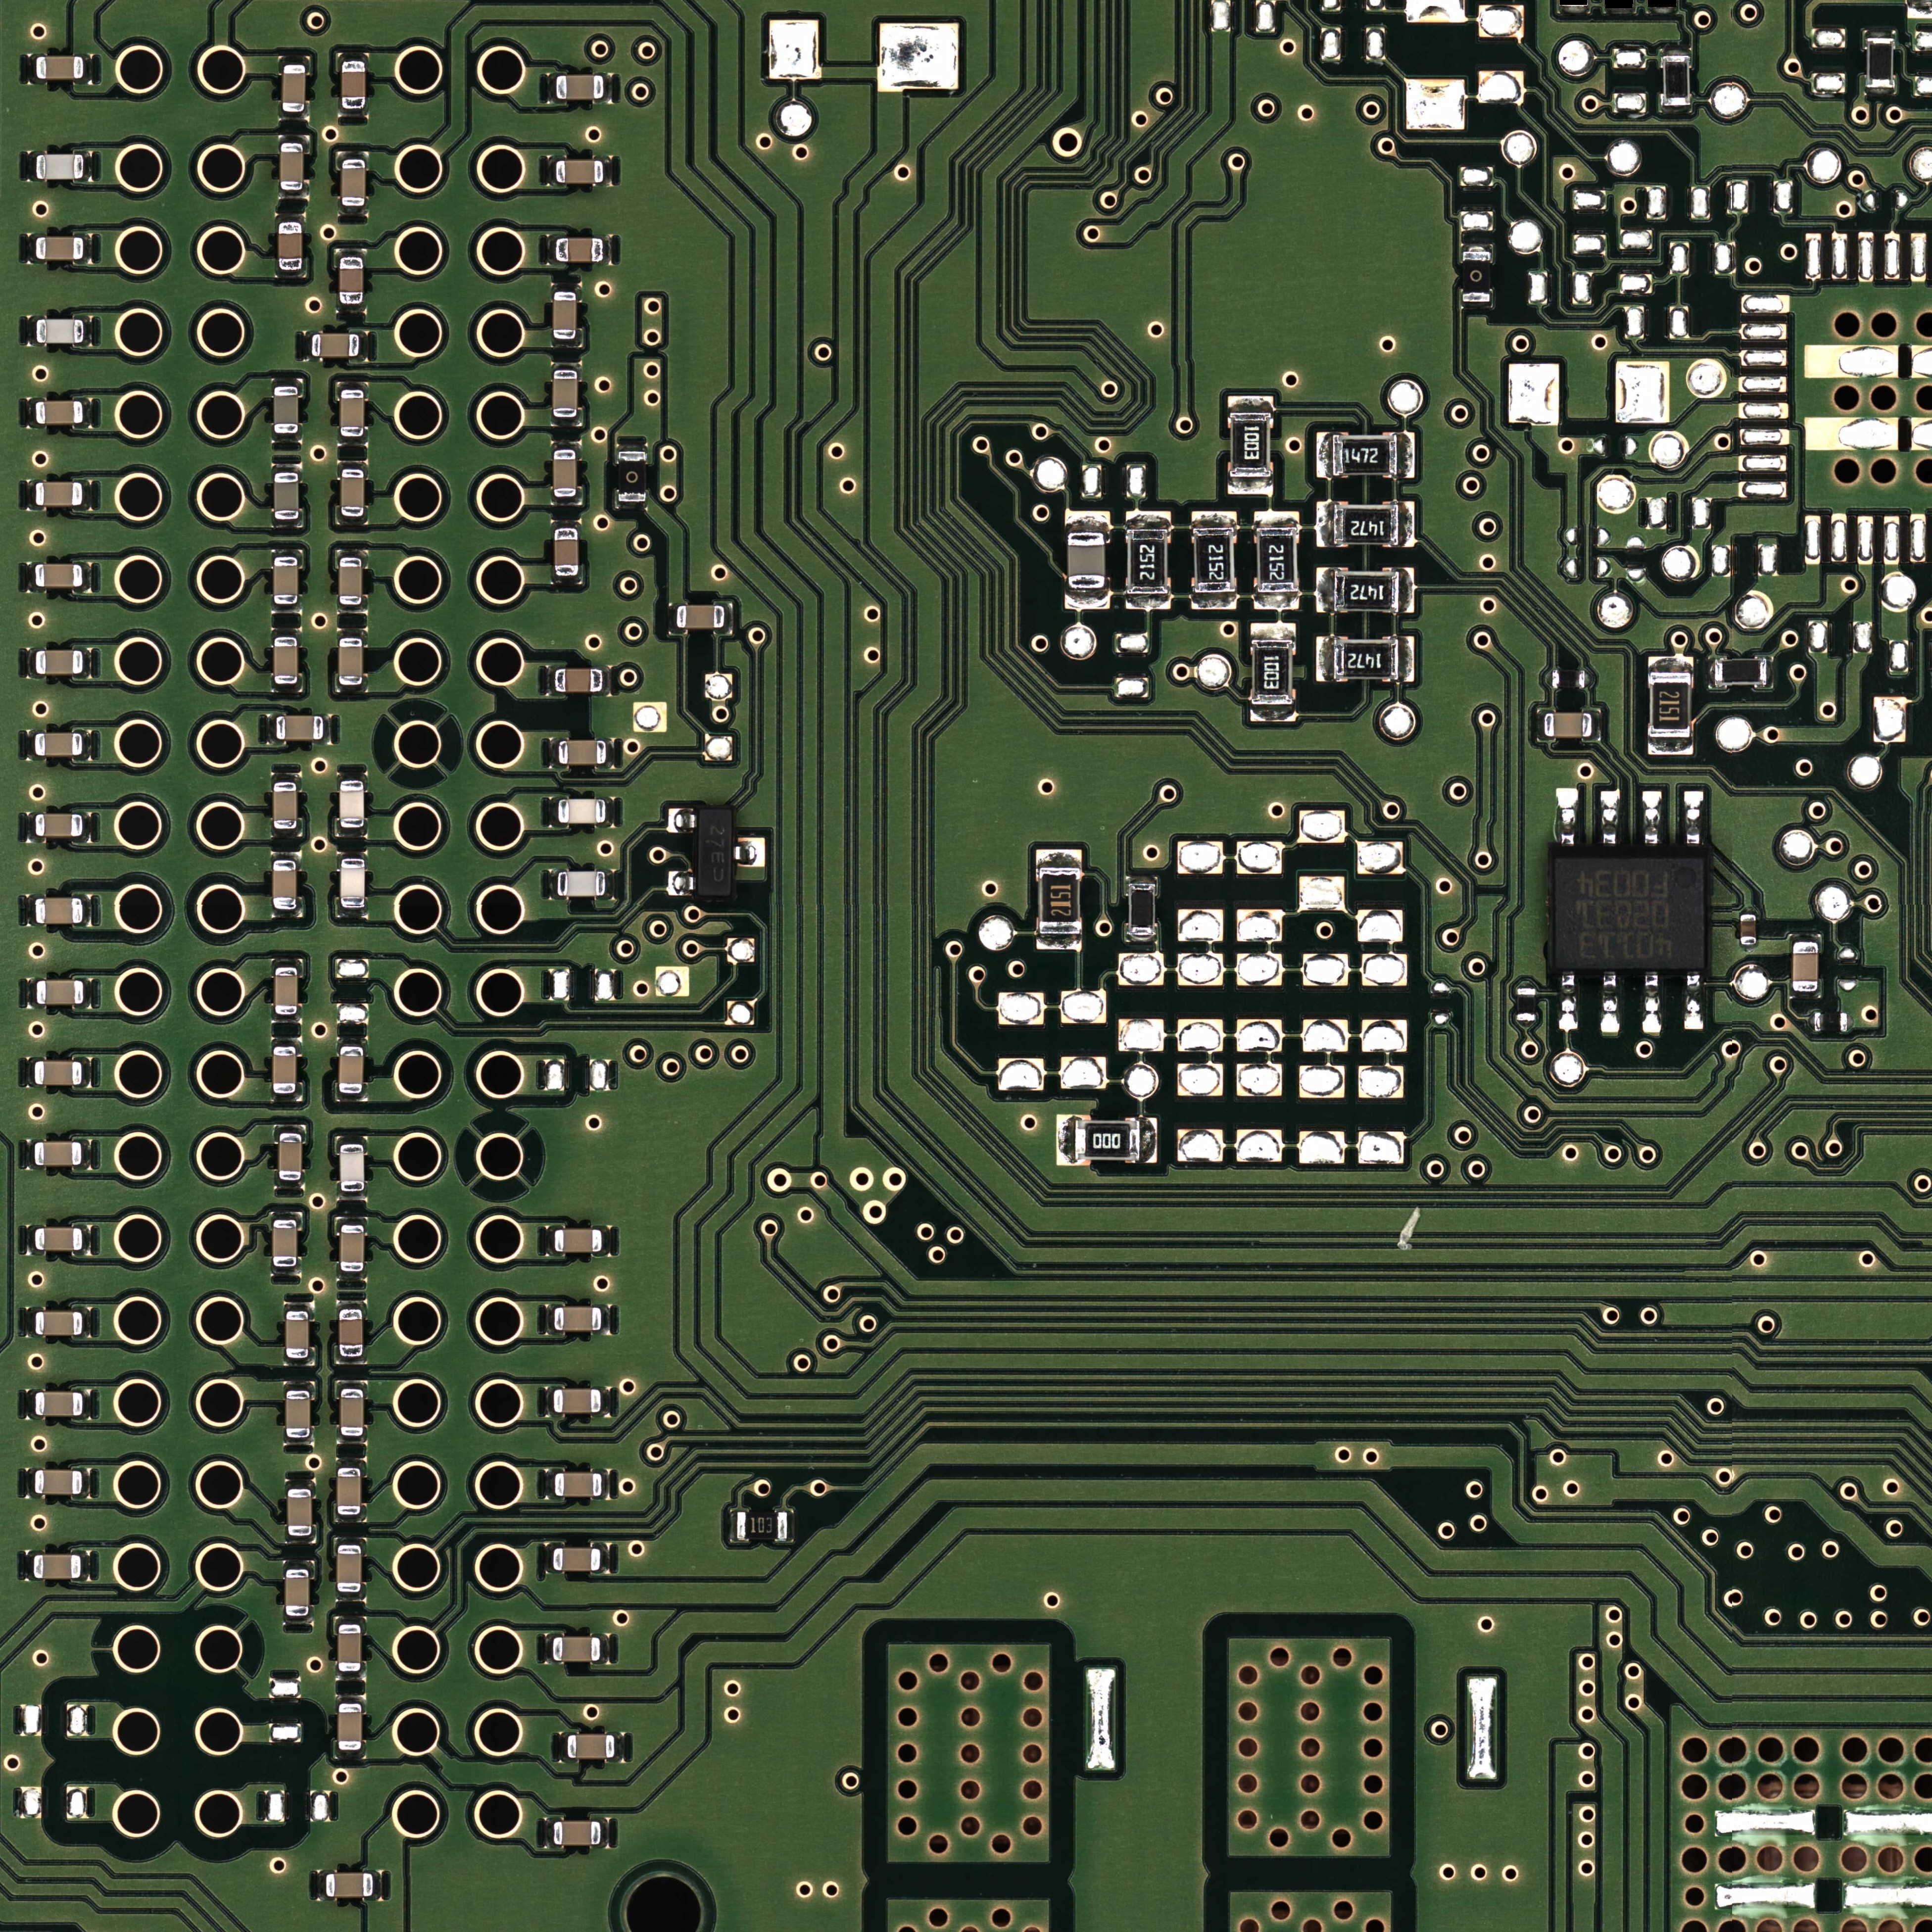Package: (1554, 857, 1705, 970), (698, 808, 733, 897), (1229, 413, 1271, 478), (1649, 673, 1691, 738), (1251, 640, 1293, 705), (1039, 868, 1080, 934), (1074, 1120, 1140, 1160), (1332, 435, 1397, 475), (1194, 528, 1234, 593), (1257, 528, 1297, 592), (1127, 530, 1167, 594), (1334, 573, 1399, 611), (1334, 640, 1399, 679), (1334, 506, 1399, 545), (1067, 533, 1106, 588), (737, 1512, 787, 1540), (1462, 251, 1490, 301), (618, 452, 646, 502), (1715, 659, 1766, 685), (1129, 883, 1155, 934), (1792, 942, 1818, 991), (35, 898, 83, 924), (1868, 38, 1893, 87), (552, 1637, 600, 1662), (1664, 56, 1689, 105), (36, 154, 84, 180), (557, 871, 605, 897), (556, 75, 604, 100), (275, 716, 323, 741), (326, 1873, 374, 1898), (558, 740, 607, 765), (558, 799, 606, 824), (567, 1734, 615, 1759), (35, 1392, 83, 1417), (36, 980, 84, 1005), (35, 1470, 82, 1495), (33, 1554, 81, 1579), (341, 61, 366, 109), (555, 668, 603, 693), (36, 650, 83, 675), (274, 472, 299, 519), (35, 1061, 82, 1086), (556, 238, 603, 262), (274, 557, 298, 604), (35, 1311, 83, 1336), (553, 1389, 601, 1413), (553, 1821, 601, 1846), (555, 1472, 602, 1497), (554, 1307, 601, 1332), (1545, 713, 1592, 737), (340, 859, 365, 907), (311, 334, 359, 358), (272, 861, 296, 909), (552, 1547, 600, 1572), (35, 482, 82, 507), (553, 370, 578, 417), (36, 319, 83, 343), (274, 386, 298, 433), (339, 1144, 364, 1191), (287, 1489, 312, 1536), (36, 56, 84, 80), (36, 237, 83, 261), (554, 528, 579, 576), (278, 222, 302, 270), (676, 605, 724, 629), (35, 1227, 82, 1252), (34, 1142, 82, 1166), (339, 1309, 363, 1356), (554, 1229, 602, 1253), (339, 781, 364, 827), (286, 1391, 310, 1437), (339, 1047, 364, 1093), (272, 1220, 297, 1266), (337, 1545, 362, 1592), (35, 733, 83, 757), (35, 564, 82, 588), (338, 638, 363, 685), (274, 637, 298, 684), (272, 1047, 296, 1094), (341, 160, 366, 206), (35, 814, 83, 837), (36, 401, 83, 425), (556, 160, 603, 184), (553, 291, 577, 339), (339, 257, 363, 304), (340, 390, 364, 436), (280, 144, 304, 190), (273, 782, 297, 829), (285, 1569, 309, 1616), (337, 1468, 361, 1514), (338, 1703, 362, 1750), (338, 1625, 362, 1671), (340, 469, 364, 516), (338, 558, 362, 605), (340, 1389, 364, 1436), (340, 1225, 364, 1271), (282, 65, 306, 111), (279, 1133, 302, 1180), (274, 967, 298, 1014), (553, 450, 577, 497), (286, 1311, 309, 1358), (1516, 988, 1536, 1021), (1814, 1013, 1847, 1031), (1552, 671, 1585, 688), (1740, 915, 1756, 944)
Solder: (1557, 788, 1578, 847), (1684, 973, 1704, 1031), (1600, 973, 1620, 1034), (1558, 973, 1578, 1032), (1642, 974, 1661, 1034), (1684, 790, 1703, 846), (1642, 791, 1661, 846), (1601, 790, 1619, 845), (1065, 511, 1111, 531), (734, 837, 765, 867), (1064, 589, 1111, 609), (1057, 1115, 1074, 1165), (1125, 511, 1171, 529), (1647, 738, 1694, 755), (1250, 706, 1297, 723), (1227, 478, 1273, 495), (1316, 501, 1333, 547), (1316, 567, 1333, 613), (1036, 850, 1082, 867), (1191, 593, 1237, 610), (1140, 1117, 1157, 1163), (1398, 433, 1415, 478), (1316, 636, 1333, 682), (1254, 593, 1299, 610), (1251, 623, 1297, 639), (1192, 511, 1237, 528), (1254, 511, 1300, 527), (1399, 501, 1415, 547), (1228, 396, 1274, 412), (1399, 636, 1414, 682), (668, 808, 696, 833), (1316, 432, 1332, 478), (1125, 595, 1171, 610), (1036, 935, 1082, 951), (1648, 657, 1693, 672), (667, 871, 695, 896), (1399, 568, 1414, 613), (335, 1457, 367, 1468), (283, 1381, 315, 1391), (337, 909, 369, 918), (283, 1560, 315, 1569), (337, 628, 367, 638), (271, 628, 302, 637), (271, 1267, 301, 1276), (271, 1037, 302, 1046), (335, 828, 367, 837), (270, 604, 302, 613), (275, 213, 305, 222), (338, 207, 368, 216), (551, 440, 581, 449), (271, 1094, 302, 1103), (272, 958, 302, 967), (333, 1515, 366, 1523), (271, 434, 302, 443), (272, 520, 303, 529), (336, 1272, 367, 1281), (283, 1616, 314, 1625), (335, 1593, 366, 1601), (374, 1870, 383, 1901), (334, 1751, 365, 1760), (551, 497, 582, 506), (271, 773, 301, 782), (271, 684, 302, 693), (271, 851, 301, 860), (337, 1192, 367, 1201), (285, 1480, 315, 1489), (605, 869, 614, 900), (1592, 710, 1600, 740), (550, 418, 582, 427), (338, 460, 368, 469), (272, 464, 302, 473), (275, 1180, 305, 1189), (337, 1037, 367, 1046), (336, 1694, 366, 1703), (278, 190, 309, 198), (271, 910, 303, 918), (271, 829, 302, 838), (27, 895, 35, 926), (334, 1537, 366, 1545), (285, 1536, 317, 1545), (1789, 933, 1821, 941), (359, 331, 368, 361), (337, 437, 368, 445), (278, 135, 309, 143), (336, 248, 367, 257), (337, 517, 368, 526), (82, 1139, 91, 1170), (336, 1094, 367, 1102), (336, 1380, 367, 1389), (335, 1672, 366, 1680), (335, 1616, 366, 1625), (551, 577, 582, 585), (1661, 105, 1692, 114), (279, 112, 309, 121), (272, 378, 302, 386), (338, 109, 368, 118), (279, 56, 309, 64), (82, 1057, 91, 1088), (336, 1301, 367, 1309), (284, 1303, 314, 1311), (26, 1307, 35, 1338), (28, 977, 36, 1008), (283, 1438, 314, 1447), (602, 1304, 610, 1335), (601, 1387, 610, 1417), (83, 894, 91, 926), (283, 1358, 315, 1366), (1537, 709, 1545, 741), (1789, 991, 1821, 999), (336, 305, 366, 313), (337, 773, 367, 781), (26, 1389, 35, 1419), (602, 1226, 611, 1256), (601, 1543, 609, 1573), (615, 1733, 624, 1763), (601, 1634, 609, 1664), (1461, 243, 1492, 251), (1559, 6, 1589, 15), (336, 685, 367, 693), (271, 1015, 302, 1023), (335, 1356, 367, 1364), (551, 340, 583, 348), (267, 714, 276, 743), (551, 362, 581, 370), (547, 235, 556, 264), (551, 520, 581, 528), (724, 603, 732, 632), (337, 382, 368, 389), (83, 647, 91, 678), (271, 1212, 302, 1220), (336, 1136, 367, 1144), (336, 1436, 367, 1444), (551, 283, 580, 291), (550, 738, 559, 767), (84, 316, 92, 346), (275, 271, 306, 279), (83, 397, 91, 428), (28, 315, 36, 346), (337, 605, 367, 613), (27, 812, 35, 842), (27, 729, 35, 760), (337, 550, 368, 558), (337, 1217, 367, 1225), (82, 1550, 90, 1581), (729, 1510, 737, 1541), (1126, 935, 1157, 943), (1766, 657, 1774, 687), (84, 151, 92, 181), (84, 234, 92, 264), (28, 233, 36, 263), (28, 151, 36, 181), (83, 730, 91, 760), (27, 562, 35, 592), (26, 1139, 34, 1169), (26, 1468, 34, 1498), (617, 502, 647, 510), (545, 1818, 553, 1848), (1461, 302, 1492, 310), (338, 53, 368, 61), (337, 151, 369, 159), (27, 398, 35, 428), (83, 562, 91, 592), (338, 851, 367, 859), (27, 648, 35, 677), (26, 1225, 34, 1255), (317, 1871, 325, 1900), (602, 666, 610, 696), (550, 869, 558, 899), (602, 1470, 610, 1499), (787, 1511, 795, 1541), (1127, 875, 1157, 883), (1865, 30, 1895, 38), (274, 1125, 305, 1133), (1708, 657, 1715, 688), (1647, 7, 1678, 15), (550, 797, 558, 826), (546, 1469, 554, 1498), (83, 812, 91, 842), (271, 549, 302, 557), (83, 1224, 91, 1255), (617, 443, 647, 451), (604, 235, 611, 265), (604, 156, 611, 187), (601, 1818, 609, 1848), (1605, 8, 1636, 16), (1866, 88, 1894, 96), (83, 480, 91, 510), (324, 714, 331, 744), (83, 1307, 90, 1338), (83, 1468, 90, 1498), (26, 1550, 33, 1581), (604, 73, 612, 103), (606, 797, 613, 827), (546, 1304, 554, 1334), (546, 1386, 553, 1416), (545, 1634, 553, 1664), (1661, 48, 1691, 55), (28, 54, 36, 84), (84, 978, 91, 1008), (27, 1057, 34, 1087), (548, 156, 556, 186), (547, 666, 555, 695), (28, 480, 35, 509), (548, 73, 556, 102), (606, 739, 614, 768), (84, 54, 92, 83), (670, 604, 677, 632), (304, 331, 311, 361), (83, 1390, 90, 1419), (547, 1226, 554, 1256), (560, 1732, 567, 1762), (546, 1544, 553, 1573), (1517, 980, 1536, 988), (1585, 671, 1593, 688), (1516, 1021, 1536, 1027), (1740, 907, 1757, 915), (1545, 670, 1552, 688), (1847, 1014, 1854, 1031), (1808, 1014, 1814, 1031), (1740, 945, 1757, 951)
